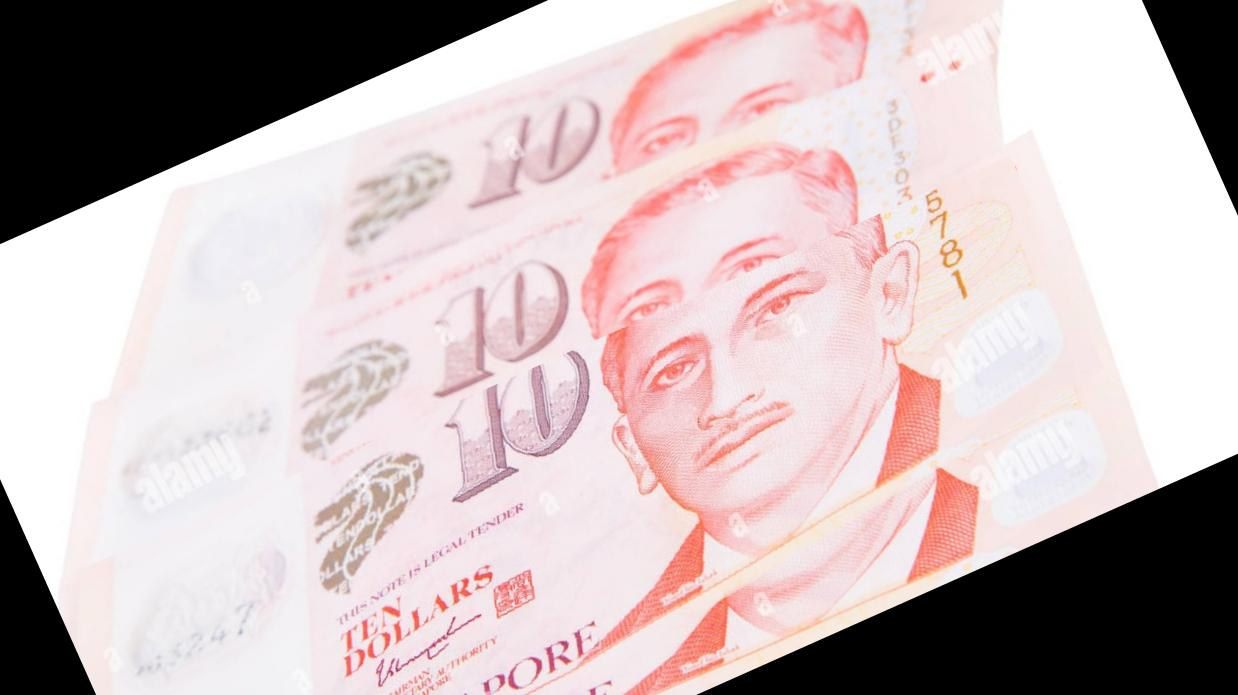10SingaporeDollar: (47, 155, 1158, 695)
